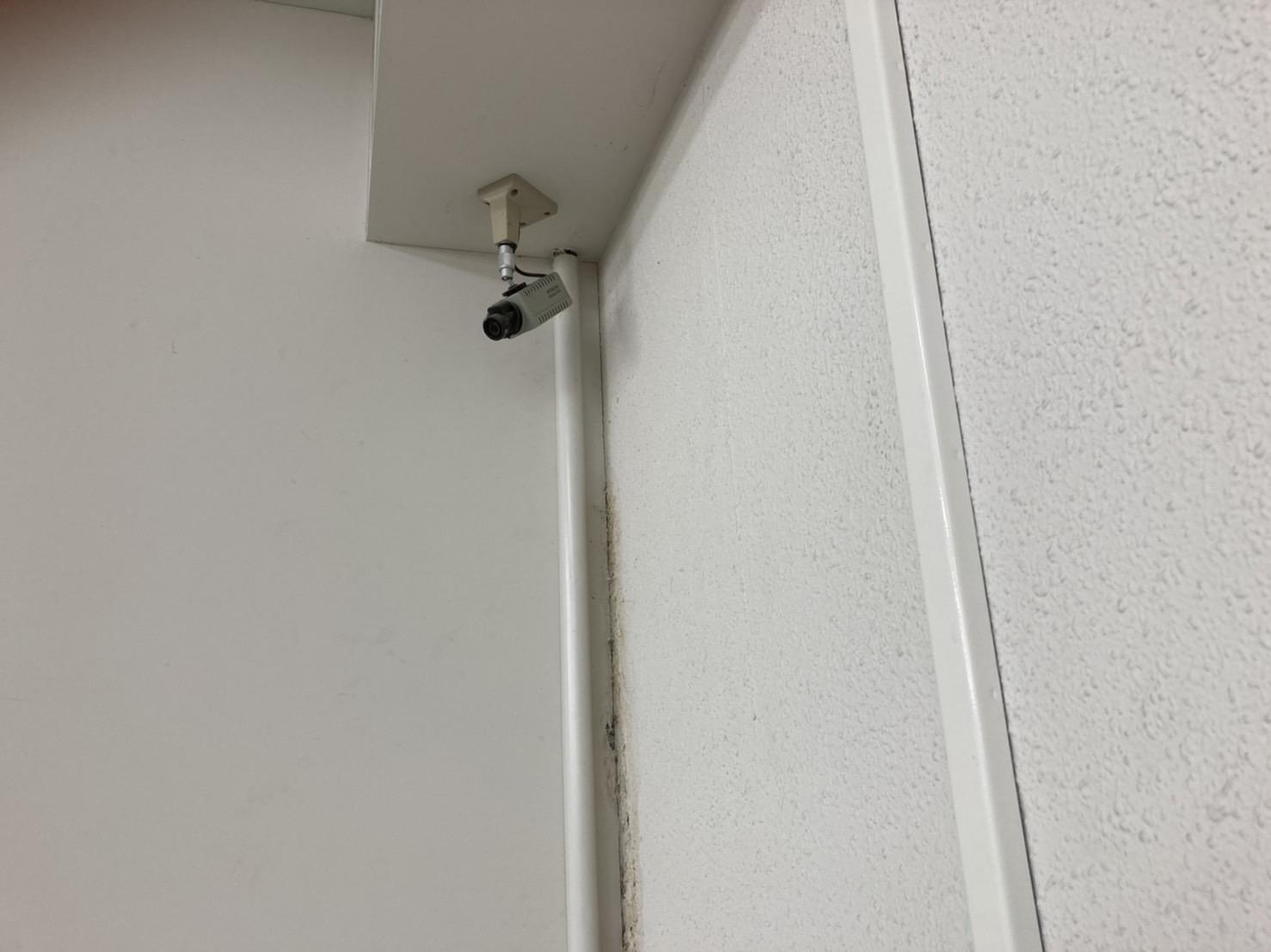tutu: (476, 258, 586, 347)
